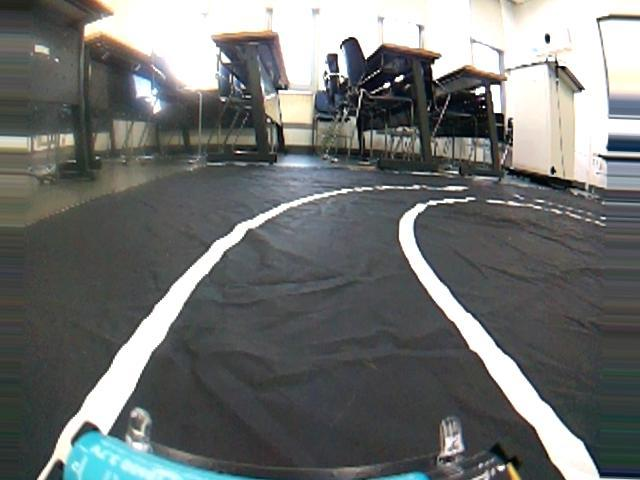straight: (17, 178, 640, 480)
